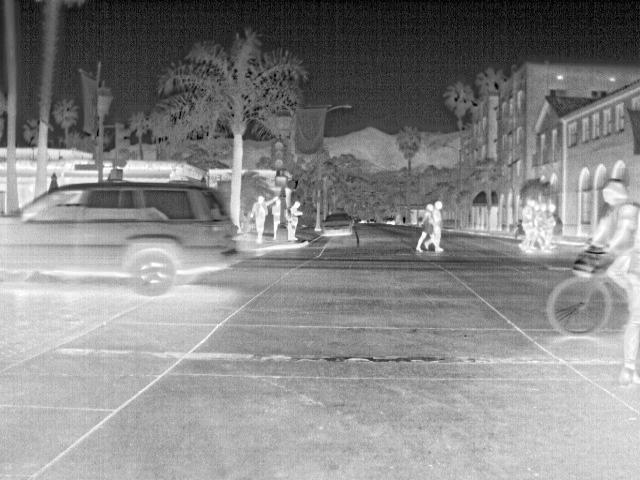car: (1, 181, 243, 296), (319, 210, 357, 237)
person: (583, 178, 639, 336), (413, 203, 434, 255), (516, 198, 534, 255), (430, 200, 448, 254), (249, 195, 269, 240), (545, 200, 560, 248), (529, 200, 542, 249), (287, 203, 304, 239), (270, 196, 283, 239)
